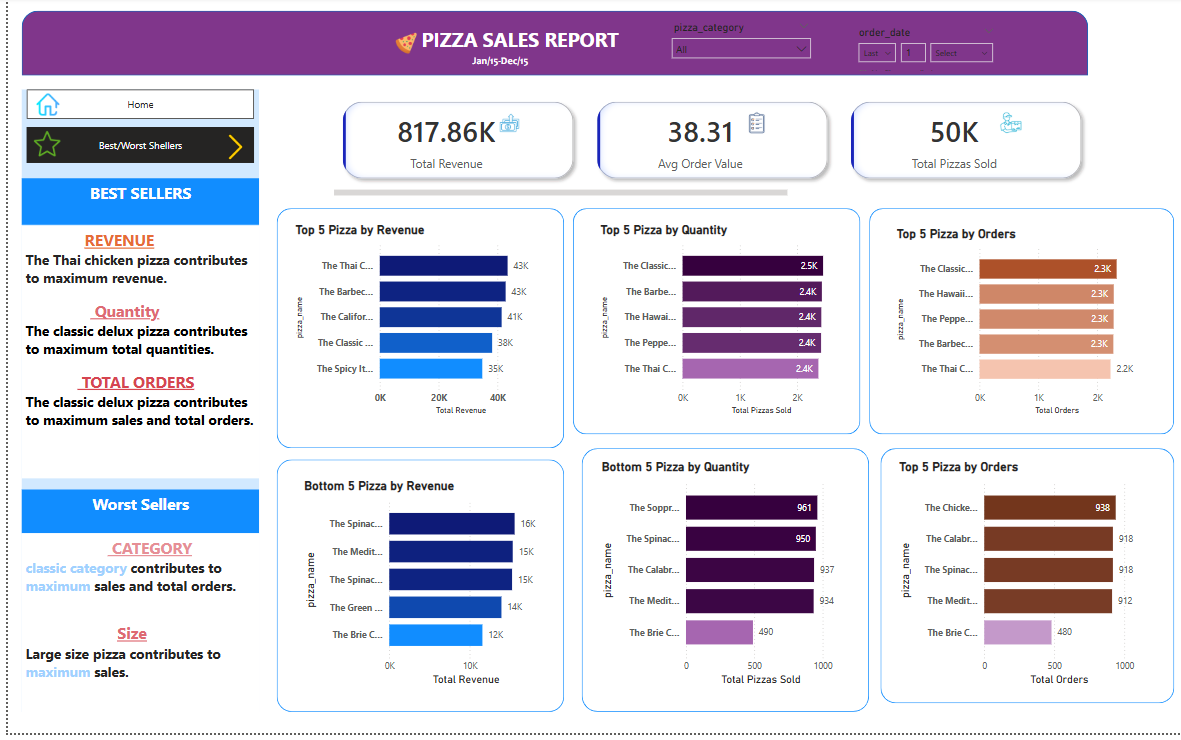

This screenshot's page, from the dashboard's own definition file:
{"tool":"powerbi","page":{"name":"Best/Worst Shellers","canvas":[1600,1000],"ordinal":1},"visuals":[{"type":"cardVisual","fields":{"Data":["pizza_sales.Total Revenue","pizza_sales.Avg Order Value","pizza_sales.Total Pizzas Sold","pizza_sales.Total Orders","pizza_sales.Avg Pizzas Per Order"]},"box":[438.2,125.7,1039.4,151.2],"z":0},{"type":"shape","box":[18.7,18.7,1448.7,88.3],"z":1000},{"type":"textbox","box":[546.6,34.2,297.1,50.1],"z":2000},{"type":"textbox","box":[594.3,72.1,149.2,29.3],"z":3000},{"type":"image","box":[522.1,40.4,39.1,44],"z":4000},{"type":"textbox","box":[18.7,125.7,322.7,845.8],"z":5000},{"type":"textbox","box":[18.7,246.3,322.7,62.8],"z":6000},{"type":"textbox","box":[18.7,310.8,322.7,343.1],"z":7000},{"type":"textbox","box":[18.7,669.2,322.7,59.4],"z":8000},{"type":"textbox","box":[18.7,728.6,322.7,259.9],"z":9000},{"type":"slicer","fields":{"Values":["pizza_sales.pizza_category"]},"box":[891.6,27.2,208.9,73],"z":10000},{"type":"slicer","fields":{"Values":["pizza_sales.order_date"]},"box":[1143,34,208.9,66.2],"z":11000},{"type":"shape","box":[365.2,287,390.6,326.1],"z":12000},{"type":"shape","box":[767.7,287,390.6,307.4],"z":13000},{"type":"shape","box":[1170.2,287,414.4,307.4],"z":14000},{"type":"shape","box":[365.2,628.4,390.6,343.1],"z":15000},{"type":"shape","box":[779.6,613.1,390.6,358.4],"z":16000},{"type":"shape","box":[1185.5,613.1,399.1,346.5],"z":17000},{"type":"barChart","title":"Top 5 Pizza by Revenue","fields":{"Category":["pizza_sales.pizza_name"],"Y":["pizza_sales.Total Revenue"]},"box":[385.5,305.7,356.7,266.6],"z":18000},{"type":"barChart","title":"Bottom 5 Pizza by Revenue","fields":{"Category":["pizza_sales.pizza_name"],"Y":["pizza_sales.Total Revenue"]},"box":[397.4,653.9,344.8,287],"z":19000},{"type":"barChart","title":"Top 5 Pizza by Quantity","fields":{"Category":["pizza_sales.pizza_name"],"Y":["pizza_sales.Total Pizzas Sold"]},"box":[799.9,305.7,343.1,266.6],"z":20000},{"type":"barChart","title":"Bottom 5 Pizza by Quantity","fields":{"Category":["pizza_sales.pizza_name"],"Y":["pizza_sales.Total Pizzas Sold"]},"box":[801.6,628.4,341.4,312.5],"z":21000},{"type":"barChart","title":"Top 5 Pizza by Orders","fields":{"Category":["pizza_sales.pizza_name"],"Y":["pizza_sales.Total Orders"]},"box":[1202.5,310.8,346.5,261.6],"z":22000},{"type":"barChart","title":"Top 5 Pizza by Orders","fields":{"Category":["pizza_sales.pizza_name"],"Y":["pizza_sales.Total Orders"]},"box":[1205.8,628.4,343.1,312.5],"z":23000},{"type":"pageNavigator","box":[25.5,176.6,309.1,49.3],"z":24000},{"type":"pageNavigator","box":[25.5,125.7,309.1,40.8],"z":25000},{"type":"image","box":[276.8,181.7,64.5,44.2],"z":26000},{"type":"image","box":[18.7,125.7,71.3,40.8],"z":27000},{"type":"image","box":[13.6,176.6,79.8,45.9],"z":28000}]}

Visuals, with their boxes in screenshot pixels (x1, y1, x2, y2), scaled from the page's 1600x1000 canvas onto the 1181x740 screenshot:
cardVisual - pizza_sales.Total Revenue x pizza_sales.Avg Order Value: rect(323, 93, 1091, 205)
shape: rect(14, 14, 1083, 79)
textbox: rect(403, 25, 623, 62)
textbox: rect(439, 53, 549, 75)
image: rect(385, 30, 414, 62)
textbox: rect(14, 93, 252, 719)
textbox: rect(14, 182, 252, 229)
textbox: rect(14, 230, 252, 484)
textbox: rect(14, 495, 252, 539)
textbox: rect(14, 539, 252, 731)
slicer - pizza_sales.pizza_category: rect(658, 20, 812, 74)
slicer - pizza_sales.order_date: rect(844, 25, 998, 74)
shape: rect(270, 212, 558, 454)
shape: rect(567, 212, 855, 440)
shape: rect(864, 212, 1170, 440)
shape: rect(270, 465, 558, 719)
shape: rect(575, 454, 864, 719)
shape: rect(875, 454, 1170, 710)
"Top 5 Pizza by Revenue" barChart: rect(285, 226, 548, 424)
"Bottom 5 Pizza by Revenue" barChart: rect(293, 484, 548, 696)
"Top 5 Pizza by Quantity" barChart: rect(590, 226, 844, 424)
"Bottom 5 Pizza by Quantity" barChart: rect(592, 465, 844, 696)
"Top 5 Pizza by Orders" barChart: rect(888, 230, 1143, 424)
"Top 5 Pizza by Orders" barChart: rect(890, 465, 1143, 696)
pageNavigator: rect(19, 131, 247, 167)
pageNavigator: rect(19, 93, 247, 123)
image: rect(204, 134, 252, 167)
image: rect(14, 93, 66, 123)
image: rect(10, 131, 69, 165)
